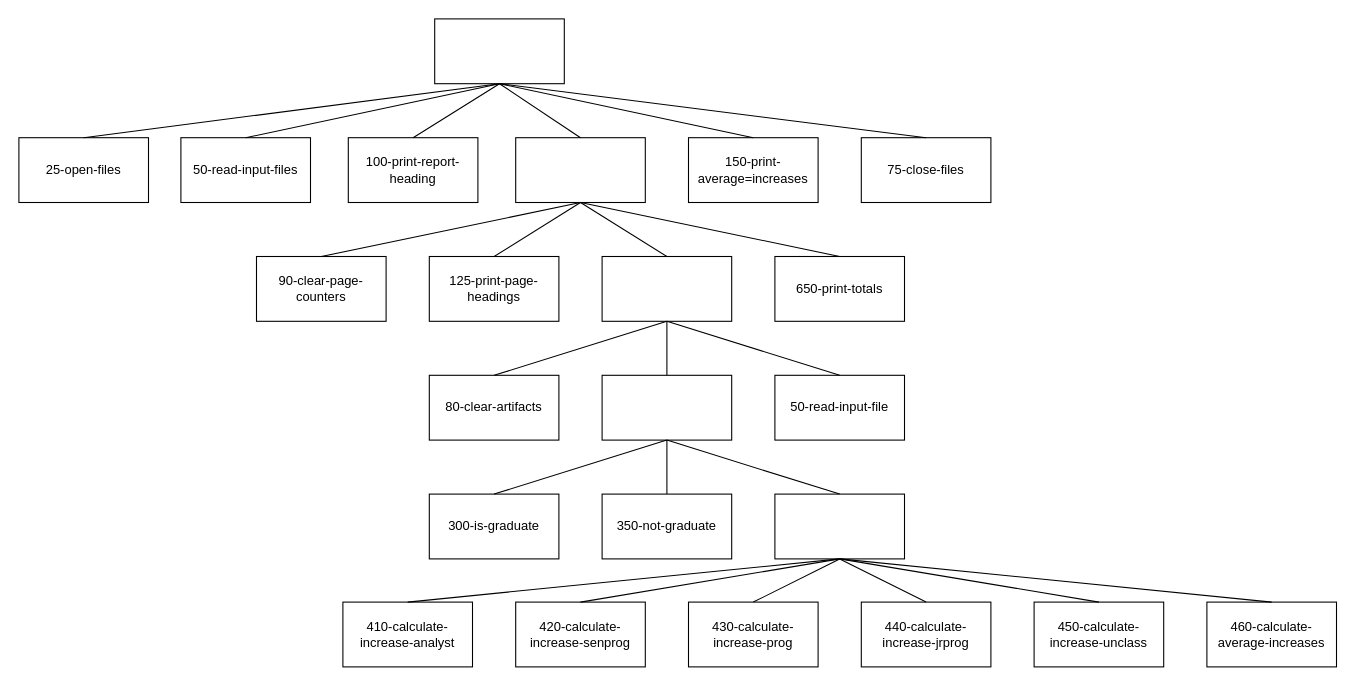
Some shapes in this 1355 by 686 pixel diagram are drawn without their labels. Here are the shapes that lost their labels. From the top down, the centre of each, then its label:
the point at 499,51: 000-main
the point at 580,169: 200-process-pages
the point at 666,288: 250-process-lines
the point at 666,407: 600-create-output-line
the point at 839,526: 400-calculations
